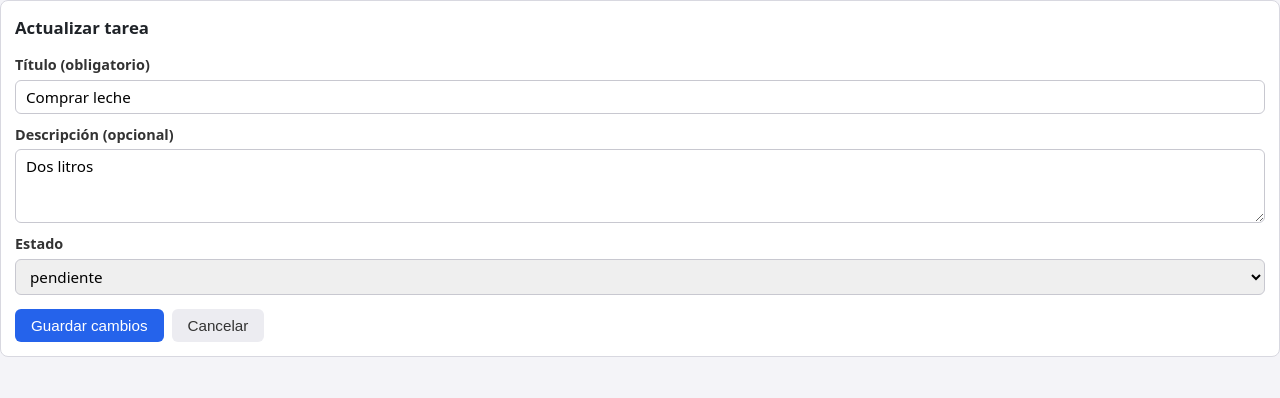
TareaForm — validación de título (AC7) › en modo editar no envía si se borra el título (QA-10)
Clear the field labelled "Título (obligatorio)" at (640, 97), box [15,80,1265,114]
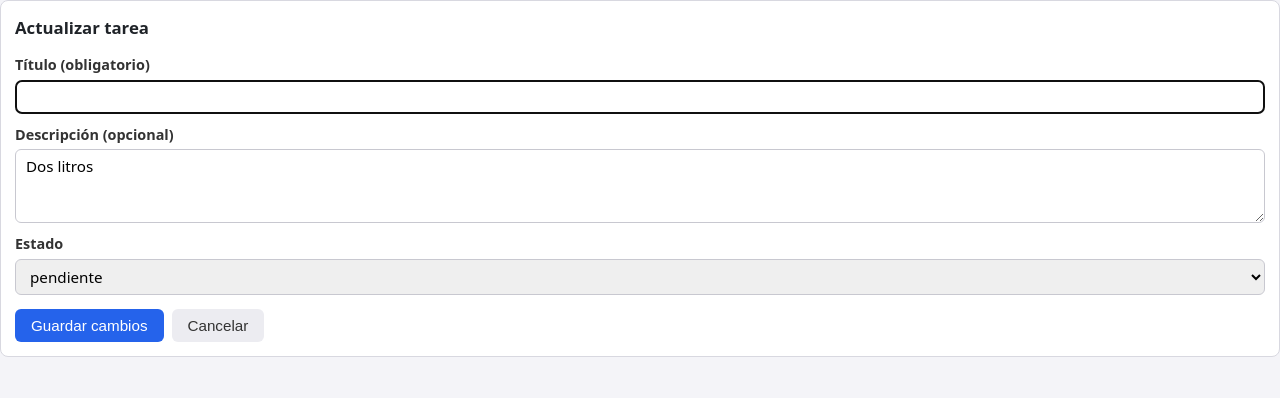
Click the button "Guardar cambios" at (89, 326), box [15,309,164,342]
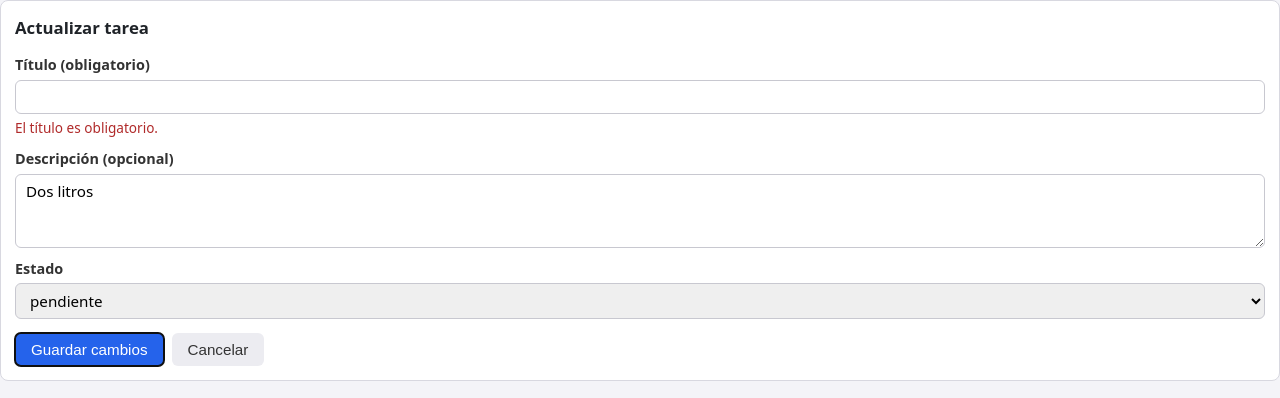
Check: the text "El título es obligatorio." is shown, box [15,118,158,137]
